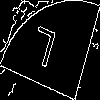L: (25, 25, 58, 77)
